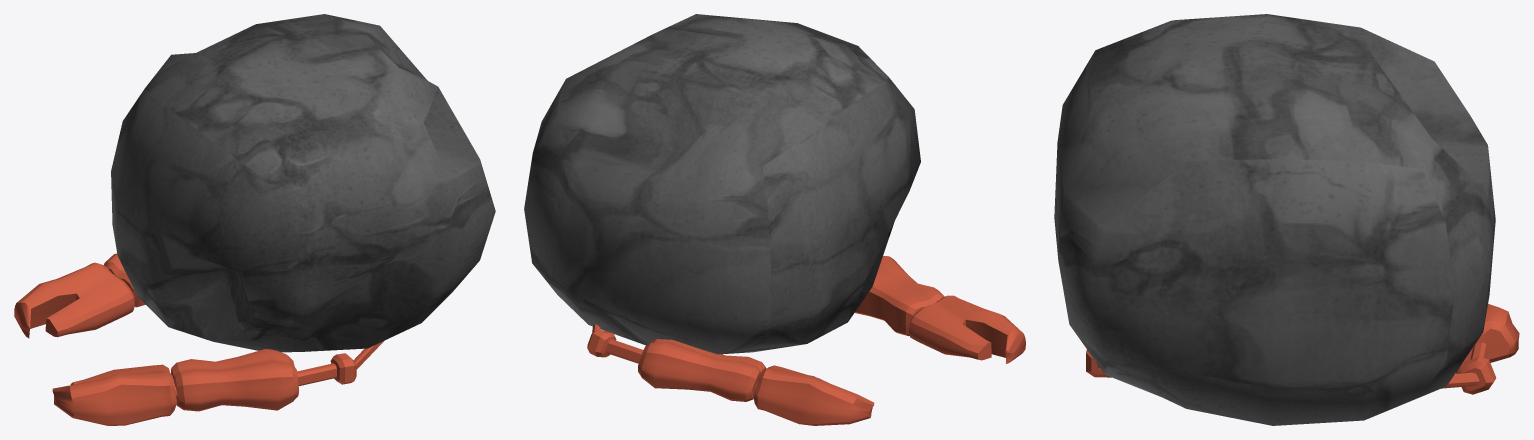
Rendered from rockcrab_sans_eyes.fbx.
3 renders of one model, left to right at view 1: azimuth 30°, elevation 25°; view 2: azimuth 150°, elevation 25°; view 3: azimuth 270°, elevation 25°, orthographic. The views are drawn at different scales.
Visible parts, largest first — view 1: rock, L_claw6, R_claw; view 2: rock, R_claw, L_claw6; view 3: rock, R_claw.
Part boxes in pixels (x1=…): rock: x1=111, y1=14, x2=495, y2=352; L_claw6: x1=52, y1=340, x2=384, y2=425; R_claw: x1=14, y1=253, x2=145, y2=338; rock: x1=524, y1=14, x2=920, y2=354; R_claw: x1=587, y1=324, x2=874, y2=425; L_claw6: x1=854, y1=256, x2=1025, y2=363; rock: x1=1054, y1=14, x2=1495, y2=425; R_claw: x1=1441, y1=304, x2=1519, y2=394.
Bounding box in the file's own units: 3.79 × 2.5 × 2.99.
